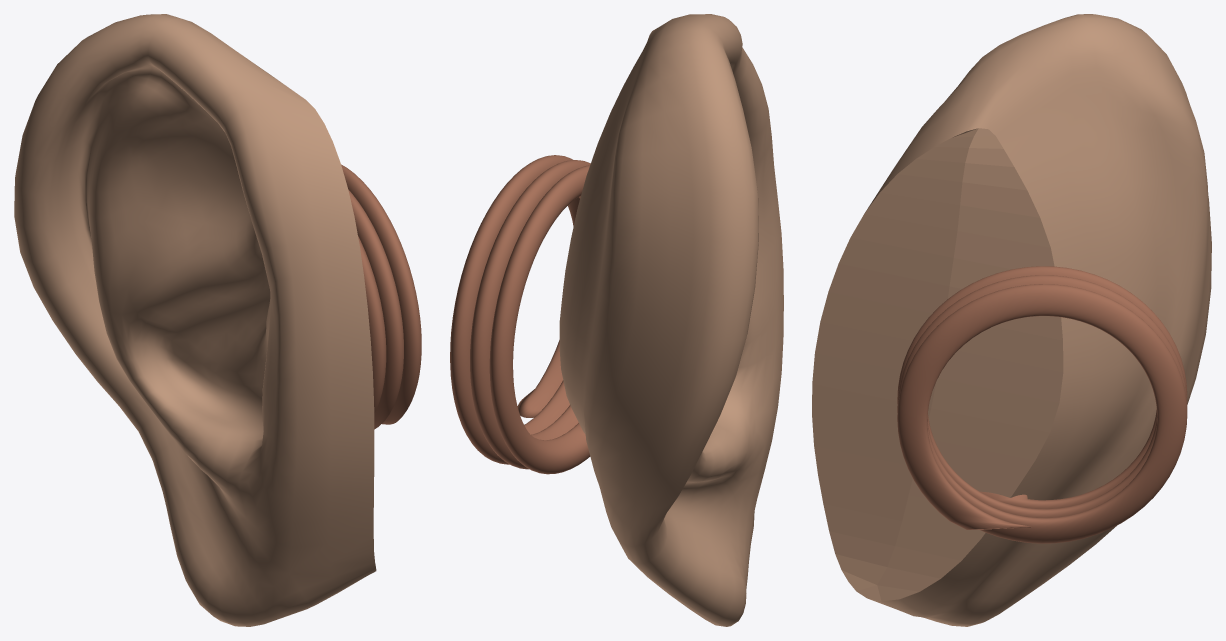
The model's file is ear.fbx.
3 views of the same model, side by side, from view 1: azimuth 30°, elevation 25°; view 2: azimuth 150°, elevation 25°; view 3: azimuth 270°, elevation 25° (orthographic). The views are drawn at different scales.
Visible parts, largest first — view 1: ear_2_free_low:Group48003, Circle; view 2: ear_2_free_low:Group48003, Circle; view 3: ear_2_free_low:Group48003, Circle.
Boxes of the visible parts, box(x1,y1,x2,y2) form: ear_2_free_low:Group48003: box(14, 14, 376, 626); Circle: box(341, 164, 421, 429); ear_2_free_low:Group48003: box(559, 14, 783, 626); Circle: box(450, 155, 590, 474); ear_2_free_low:Group48003: box(812, 14, 1211, 626); Circle: box(897, 266, 1187, 543).
Bounding box in the file's own units: 6.3 × 12.2 × 7.45.
